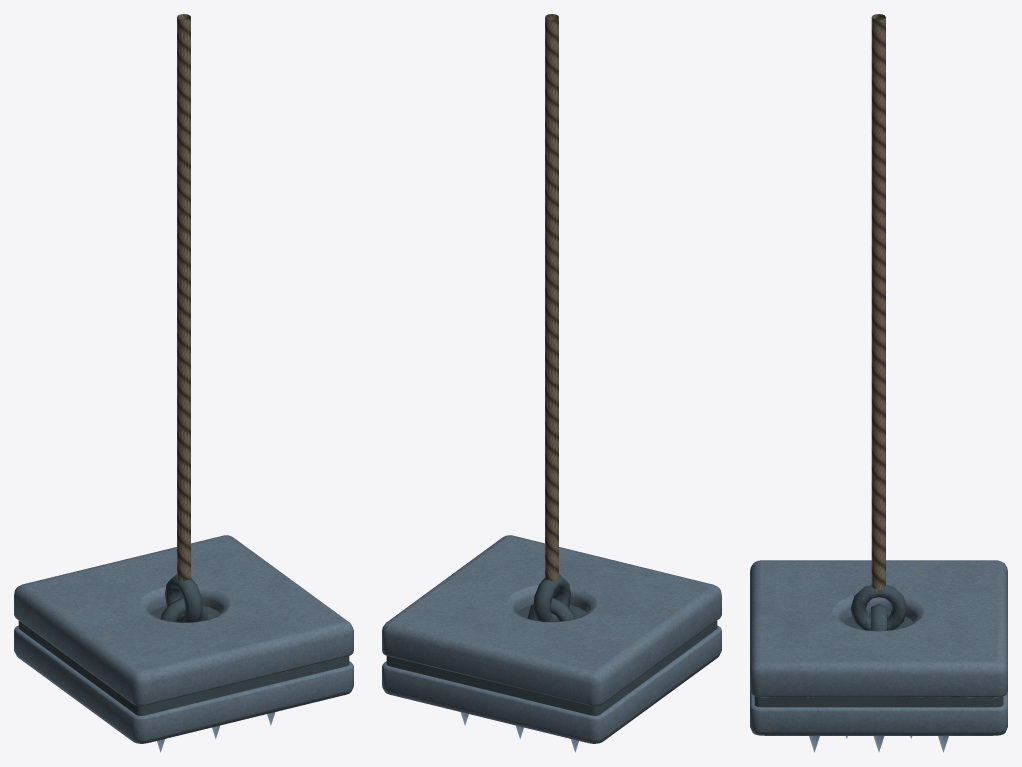
The model's file is Obstacle-17.fbx.
3 views of the same model, side by side, from view 1: azimuth 30°, elevation 25°; view 2: azimuth 150°, elevation 25°; view 3: azimuth 270°, elevation 25° (orthographic).
Visible parts, largest first — view 1: Obstacle-17-Cover, Obstacle-17-Rope, Obstacle-17; view 2: Obstacle-17-Cover, Obstacle-17-Rope, Obstacle-17; view 3: Obstacle-17-Cover, Obstacle-17-Rope, Obstacle-17.
Boxes of the visible parts, x1,y1,x2,y2 form: Obstacle-17-Cover: (14, 535, 353, 743); Obstacle-17-Rope: (177, 14, 190, 581); Obstacle-17: (150, 574, 219, 622); Obstacle-17-Cover: (382, 535, 721, 743); Obstacle-17-Rope: (545, 14, 558, 581); Obstacle-17: (517, 574, 586, 621); Obstacle-17-Cover: (750, 560, 1007, 735); Obstacle-17-Rope: (871, 14, 885, 589); Obstacle-17: (843, 585, 913, 631).
Size of the model in its own units: 2.03 by 6.16 by 2.03.
